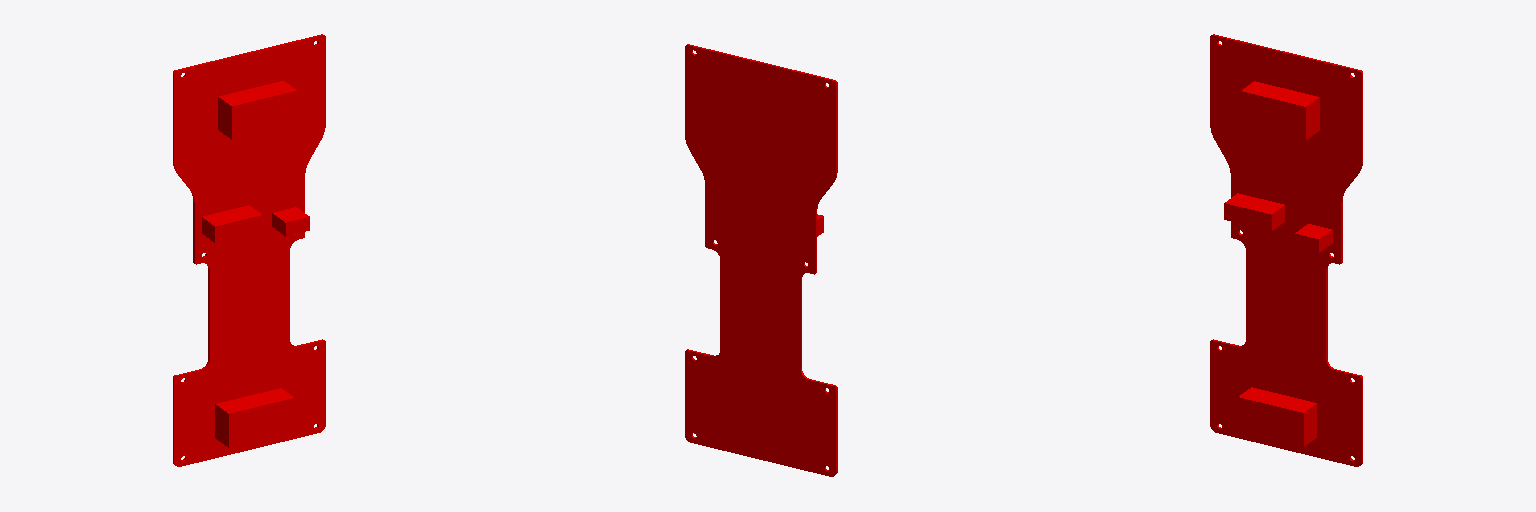
The model's file is chassis_bottom.obj.
3 views of the same model, side by side, from view 1: azimuth 30°, elevation 25°; view 2: azimuth 150°, elevation 25°; view 3: azimuth 330°, elevation 25° (orthographic).
Visible parts, largest first — view 1: Body3; view 2: Body3; view 3: Body3.
Boxes of the visible parts, <box> form: Body3: <box>173,34,325,466</box>; Body3: <box>685,44,837,476</box>; Body3: <box>1210,34,1362,466</box>.
Size of the model in its own units: 0.104 by 0.26 by 0.0176.